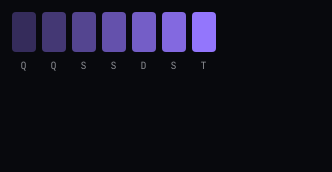
Test: HeatmapByMatter › shows minute count in status on hover
Hover over the 2nd button "S" at (114, 43), box [102,12,126,74]
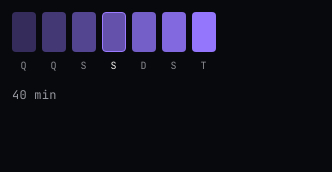
Result: the message reads "40 min" at [12,86,57,102]
